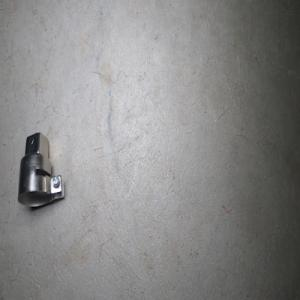MetalPart: (17, 131, 65, 207)
